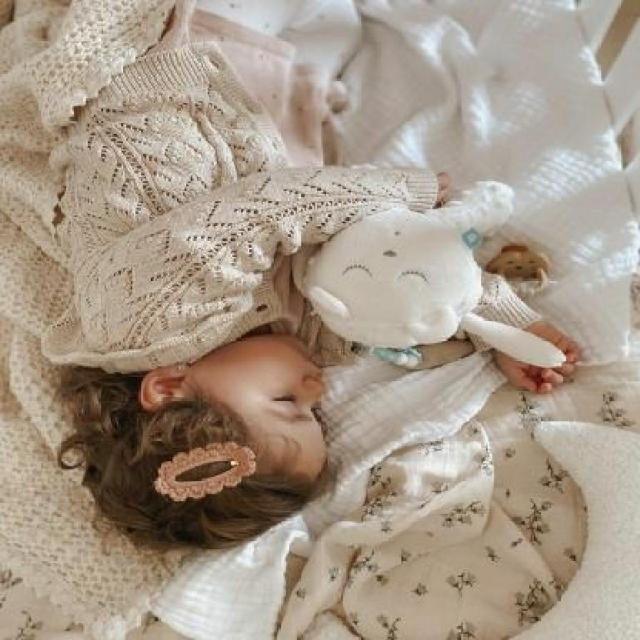child: (45, 1, 579, 557)
